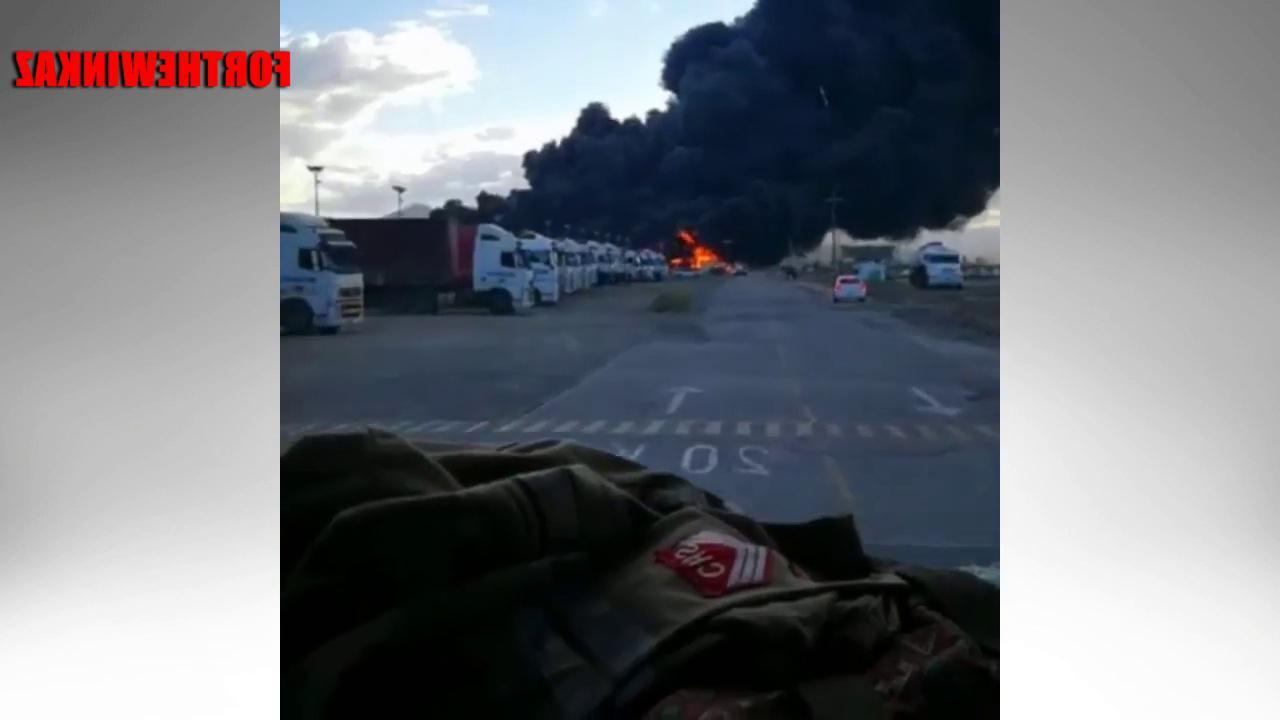Fire: (674, 238, 725, 274)
